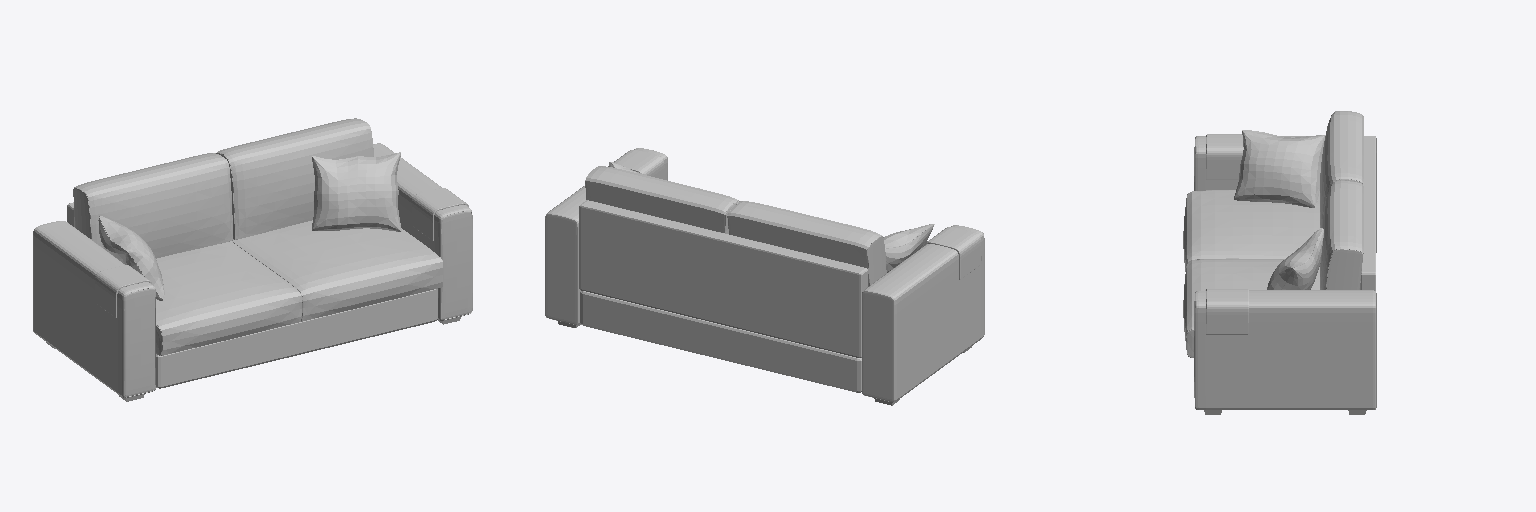
3 renders of one model, left to right at view 1: azimuth 30°, elevation 25°; view 2: azimuth 150°, elevation 25°; view 3: azimuth 270°, elevation 25°, orthographic.
Parts seen in each view (by area): view 1: Sofa_GM_Plutone_OBJ; view 2: Sofa_GM_Plutone_OBJ; view 3: Sofa_GM_Plutone_OBJ.
Part boxes in pixels (x1,y1,x2,y2): Sofa_GM_Plutone_OBJ: (33, 118, 472, 401); Sofa_GM_Plutone_OBJ: (545, 148, 984, 405); Sofa_GM_Plutone_OBJ: (1183, 111, 1376, 414).
Bounding box in the file's own units: 2076 × 878 × 982.